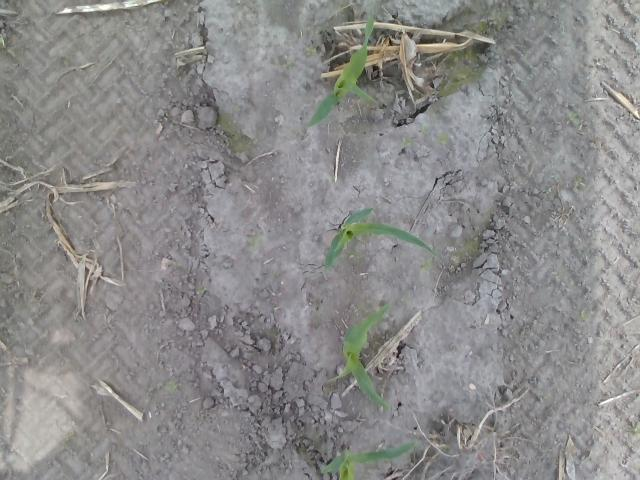Maize: (321, 206, 441, 276), (302, 15, 376, 128), (325, 300, 394, 410), (321, 440, 416, 480)
Weeds: (0, 36, 16, 57), (247, 235, 260, 251), (580, 310, 592, 323), (422, 258, 432, 273), (436, 133, 448, 145), (568, 111, 579, 124), (574, 174, 584, 188), (401, 136, 412, 148), (632, 422, 640, 438), (401, 293, 412, 304), (282, 59, 293, 70), (166, 381, 178, 391), (148, 382, 162, 390), (306, 44, 316, 55), (421, 125, 431, 135), (197, 286, 208, 294), (171, 262, 181, 268), (230, 104, 240, 110), (270, 270, 276, 278)
